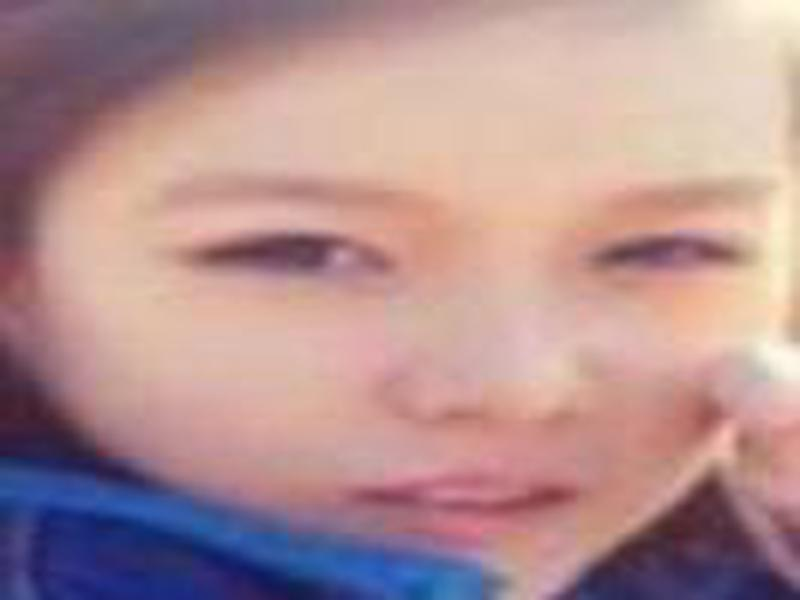without_mask: (16, 57, 791, 595)
